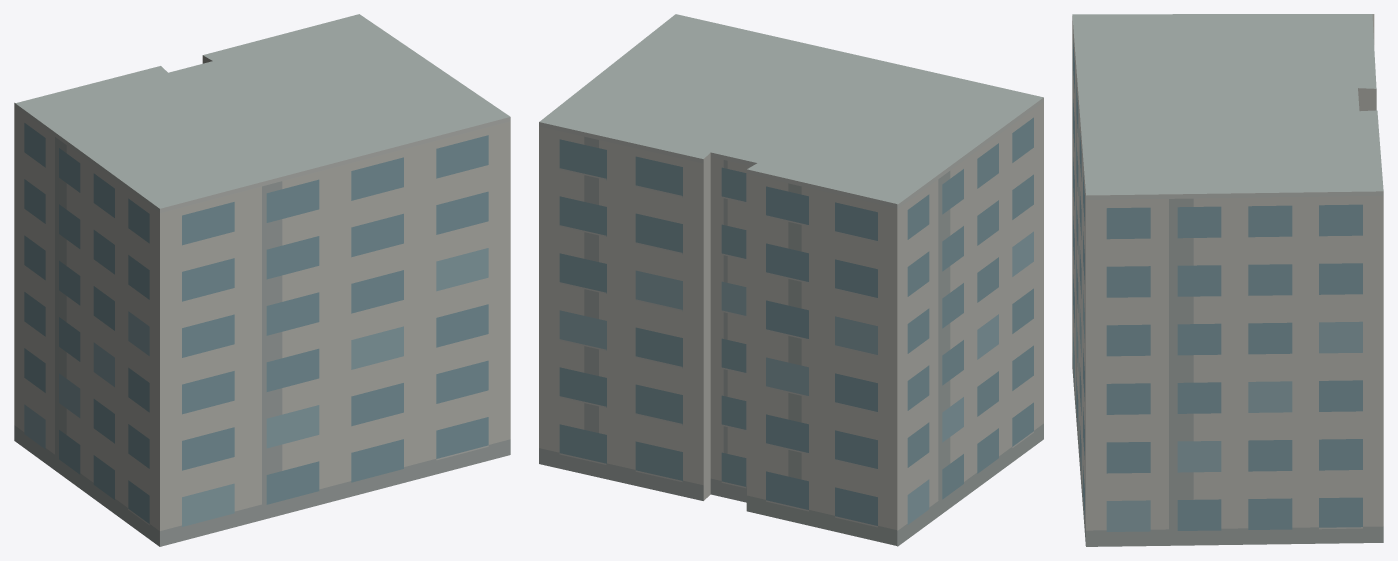
File: survey-upis-32840840.glb
The picture shows the model from 3 angles, left to right: view 1: azimuth 30°, elevation 25°; view 2: azimuth 150°, elevation 25°; view 3: azimuth 270°, elevation 25°; orthographic projection. The views are drawn at different scales.
Parts seen in each view (by area): view 1: survey-upis-32840840.tmp; view 2: survey-upis-32840840.tmp; view 3: survey-upis-32840840.tmp.
Part boxes in pixels (left/top/right/bottom): survey-upis-32840840.tmp: left=14, top=14, right=510, bottom=546; survey-upis-32840840.tmp: left=539, top=14, right=1043, bottom=546; survey-upis-32840840.tmp: left=1072, top=14, right=1383, bottom=546.
Bounding box in the file's own units: 20.76 × 18.74 × 15.06.
